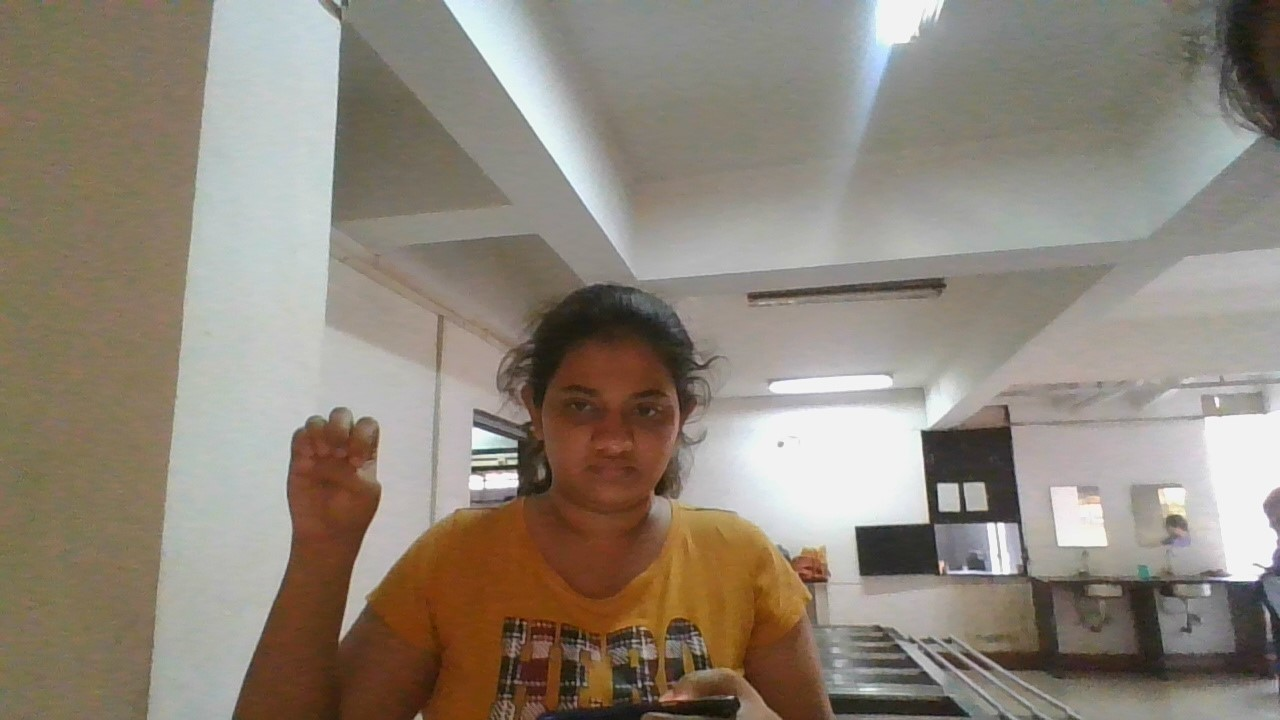e: (263, 393, 402, 556)
